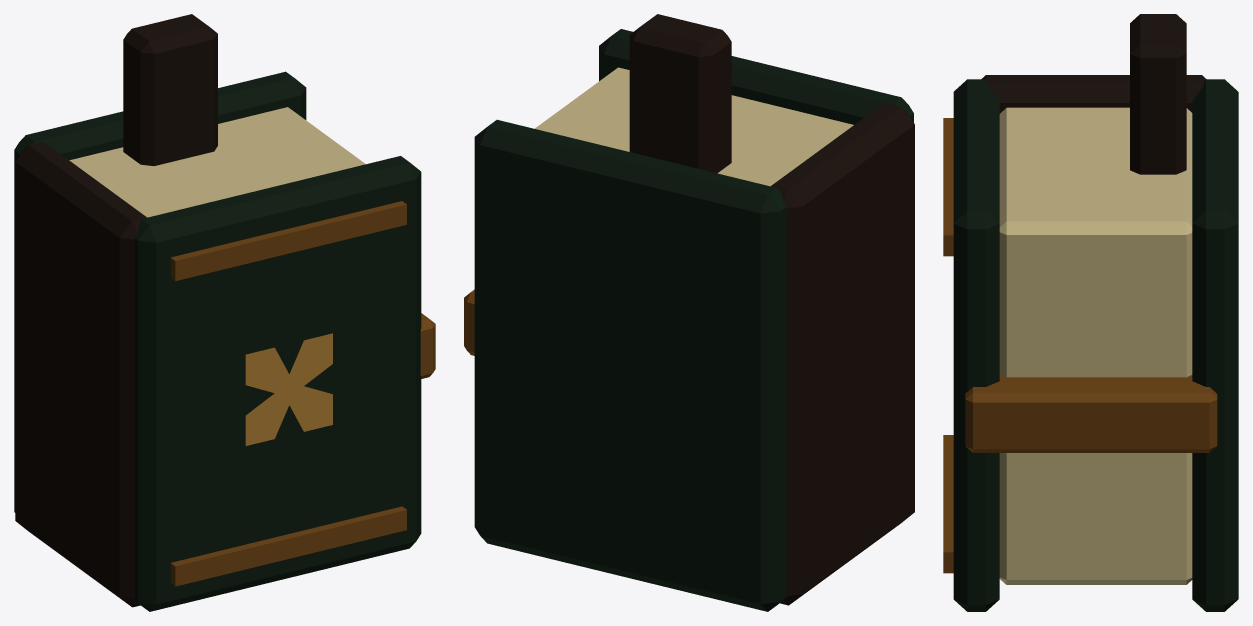
File: accessory-grimoire-satchel-v1.fbx
The picture shows the model from 3 angles, left to right: view 1: azimuth 30°, elevation 25°; view 2: azimuth 150°, elevation 25°; view 3: azimuth 270°, elevation 25°; orthographic projection. The views are drawn at different scales.
Visible parts, largest first — view 1: accessory-grimoire-satchel-v1; view 2: accessory-grimoire-satchel-v1; view 3: accessory-grimoire-satchel-v1.
Part boxes in pixels (x1,y1,x2,y2): accessory-grimoire-satchel-v1: (14, 14, 435, 611); accessory-grimoire-satchel-v1: (464, 14, 914, 611); accessory-grimoire-satchel-v1: (943, 14, 1238, 611).
Bounding box in the file's own units: 72.25 × 109 × 57.35.
Materials: 1 (1 with a texture image).
